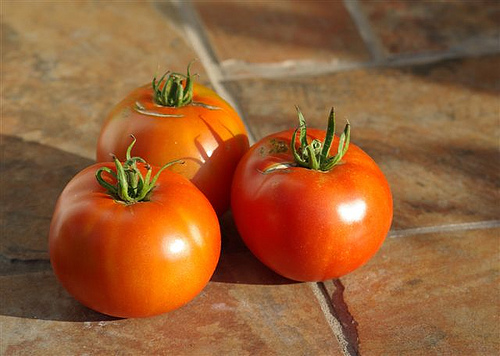tomato: (50, 157, 220, 319), (238, 115, 392, 281), (104, 69, 244, 189)
